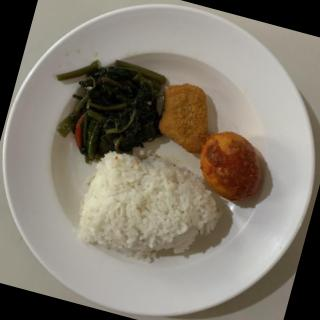Nasi: (74, 143, 231, 278)
